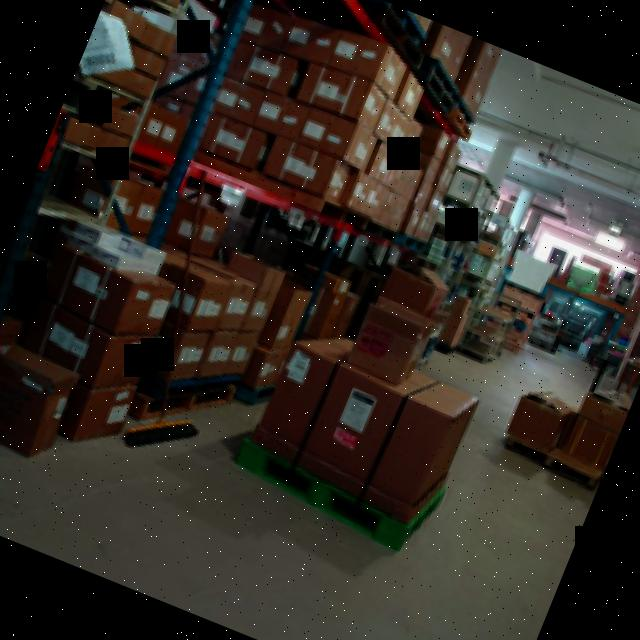box: (241, 323, 481, 528), (0, 331, 83, 468), (256, 129, 360, 207), (506, 386, 579, 462)
